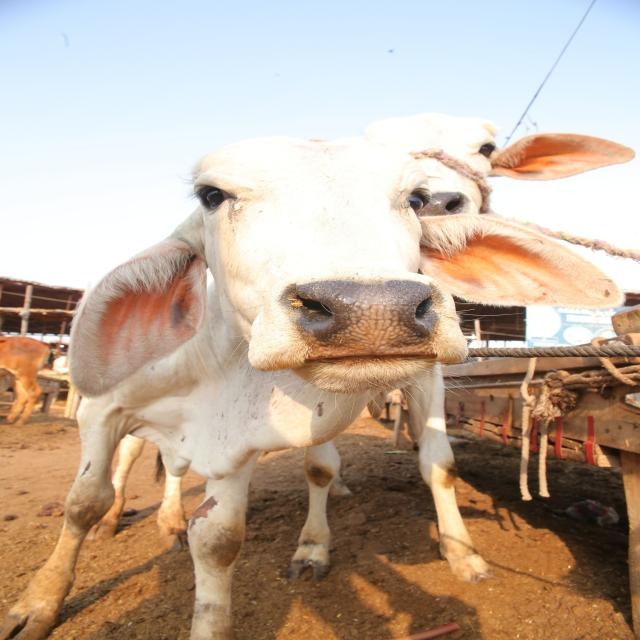muzzles: (278, 275, 465, 369)
